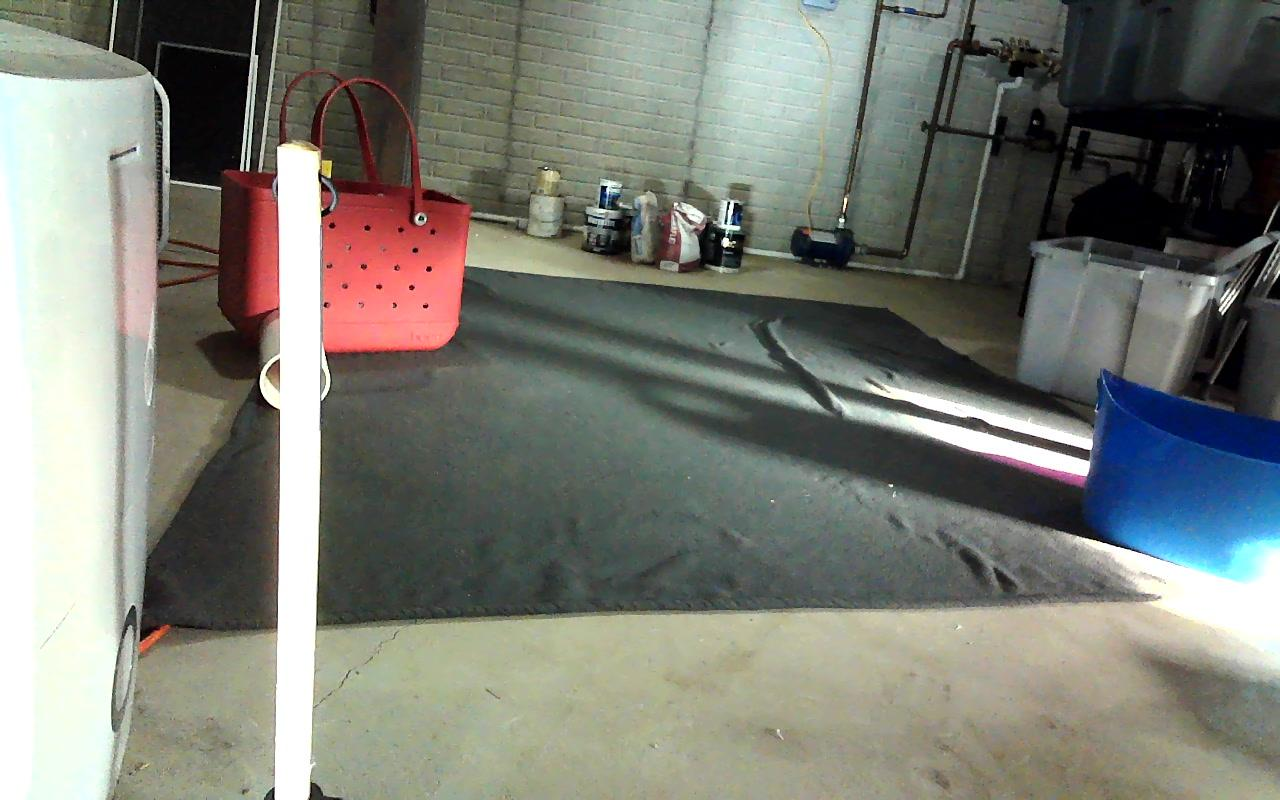coral: (260, 314, 329, 409)
